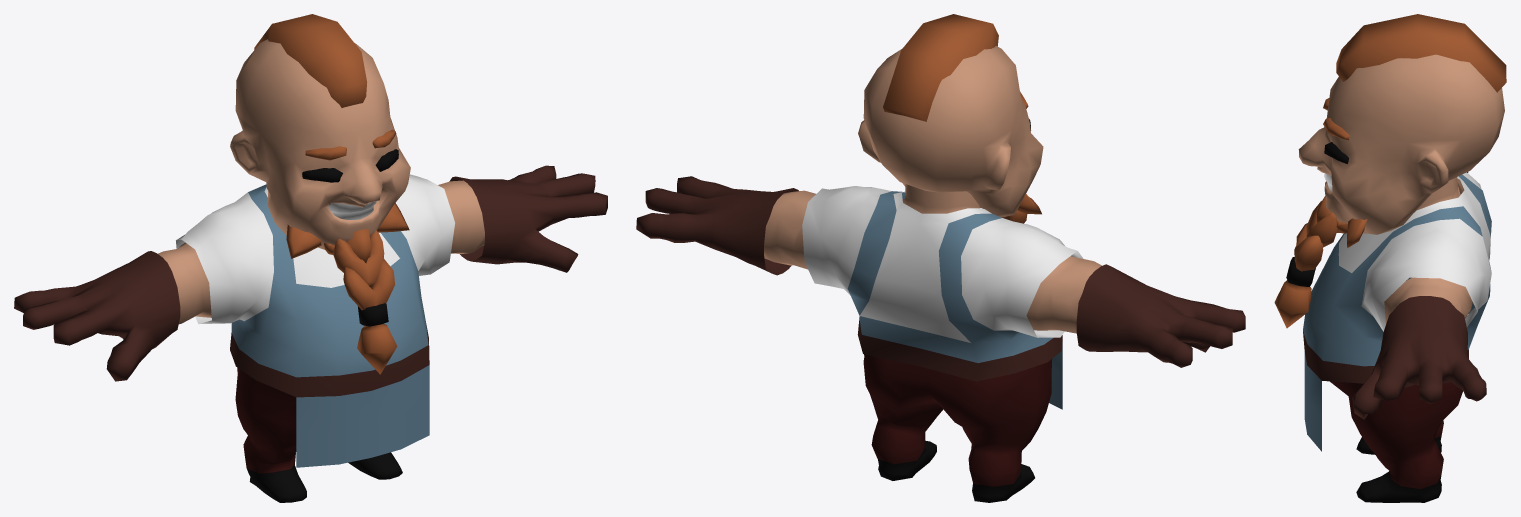
The model's file is Geuni.fbx.
3 renders of one model, left to right at view 1: azimuth 30°, elevation 25°; view 2: azimuth 150°, elevation 25°; view 3: azimuth 270°, elevation 25°, orthographic. The views are drawn at different scales.
Visible parts, largest first — view 1: Retopol_Top.003, Retopo_head.001, Retopo_Cube.001, Retopol_Bottom.001, Retopo_Hair.001, Retopo_Beard.001, Retopol_Top.004, Cube.001, Eyelashes.002, Eyebrows.001; view 2: Retopol_Top.003, Retopo_head.001, Retopo_Cube.001, Retopol_Bottom.001, Retopol_Top.004, Retopo_Hair.001; view 3: Retopo_head.001, Retopol_Top.003, Retopo_Cube.001, Retopol_Bottom.001, Retopo_Hair.001, Retopo_Beard.001, Retopol_Top.004, Cube.001, Eyebrows.001, Eyelashes.002.
Part boxes in pixels (x1,y1,x2,y2): Retopol_Top.003: (176, 174, 454, 467); Retopo_head.001: (230, 39, 410, 249); Retopo_Cube.001: (14, 165, 607, 381); Retopol_Bottom.001: (235, 367, 402, 502); Retopo_Hair.001: (254, 14, 367, 107); Retopo_Beard.001: (286, 203, 409, 310); Retopol_Top.004: (158, 180, 484, 324); Cube.001: (357, 303, 397, 374); Eyelashes.002: (302, 149, 398, 182); Eyebrows.001: (305, 129, 396, 160); Retopol_Top.003: (802, 186, 1083, 409); Retopo_head.001: (858, 46, 1043, 217); Retopo_Cube.001: (636, 176, 1245, 367); Retopol_Bottom.001: (863, 354, 1051, 502); Retopol_Top.004: (764, 184, 1101, 333); Retopo_Hair.001: (883, 14, 998, 121); Retopo_head.001: (1298, 54, 1504, 234); Retopol_Top.003: (1303, 172, 1491, 451); Retopo_Cube.001: (1352, 172, 1486, 419); Retopol_Bottom.001: (1330, 381, 1462, 502); Retopo_Hair.001: (1336, 14, 1506, 92); Retopo_Beard.001: (1294, 195, 1367, 271); Retopol_Top.004: (1384, 177, 1472, 323); Cube.001: (1274, 257, 1315, 328); Eyebrows.001: (1323, 98, 1349, 140); Eyelashes.002: (1324, 142, 1348, 163).
Bounding box in the file's own units: 2.63 × 1.94 × 0.9126.
